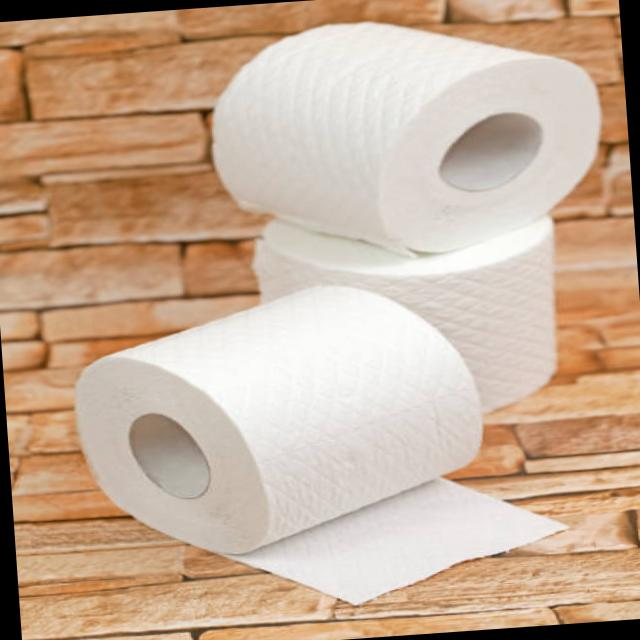electronic: (66, 273, 492, 566), (200, 2, 611, 272), (246, 198, 566, 430), (207, 466, 572, 614)
